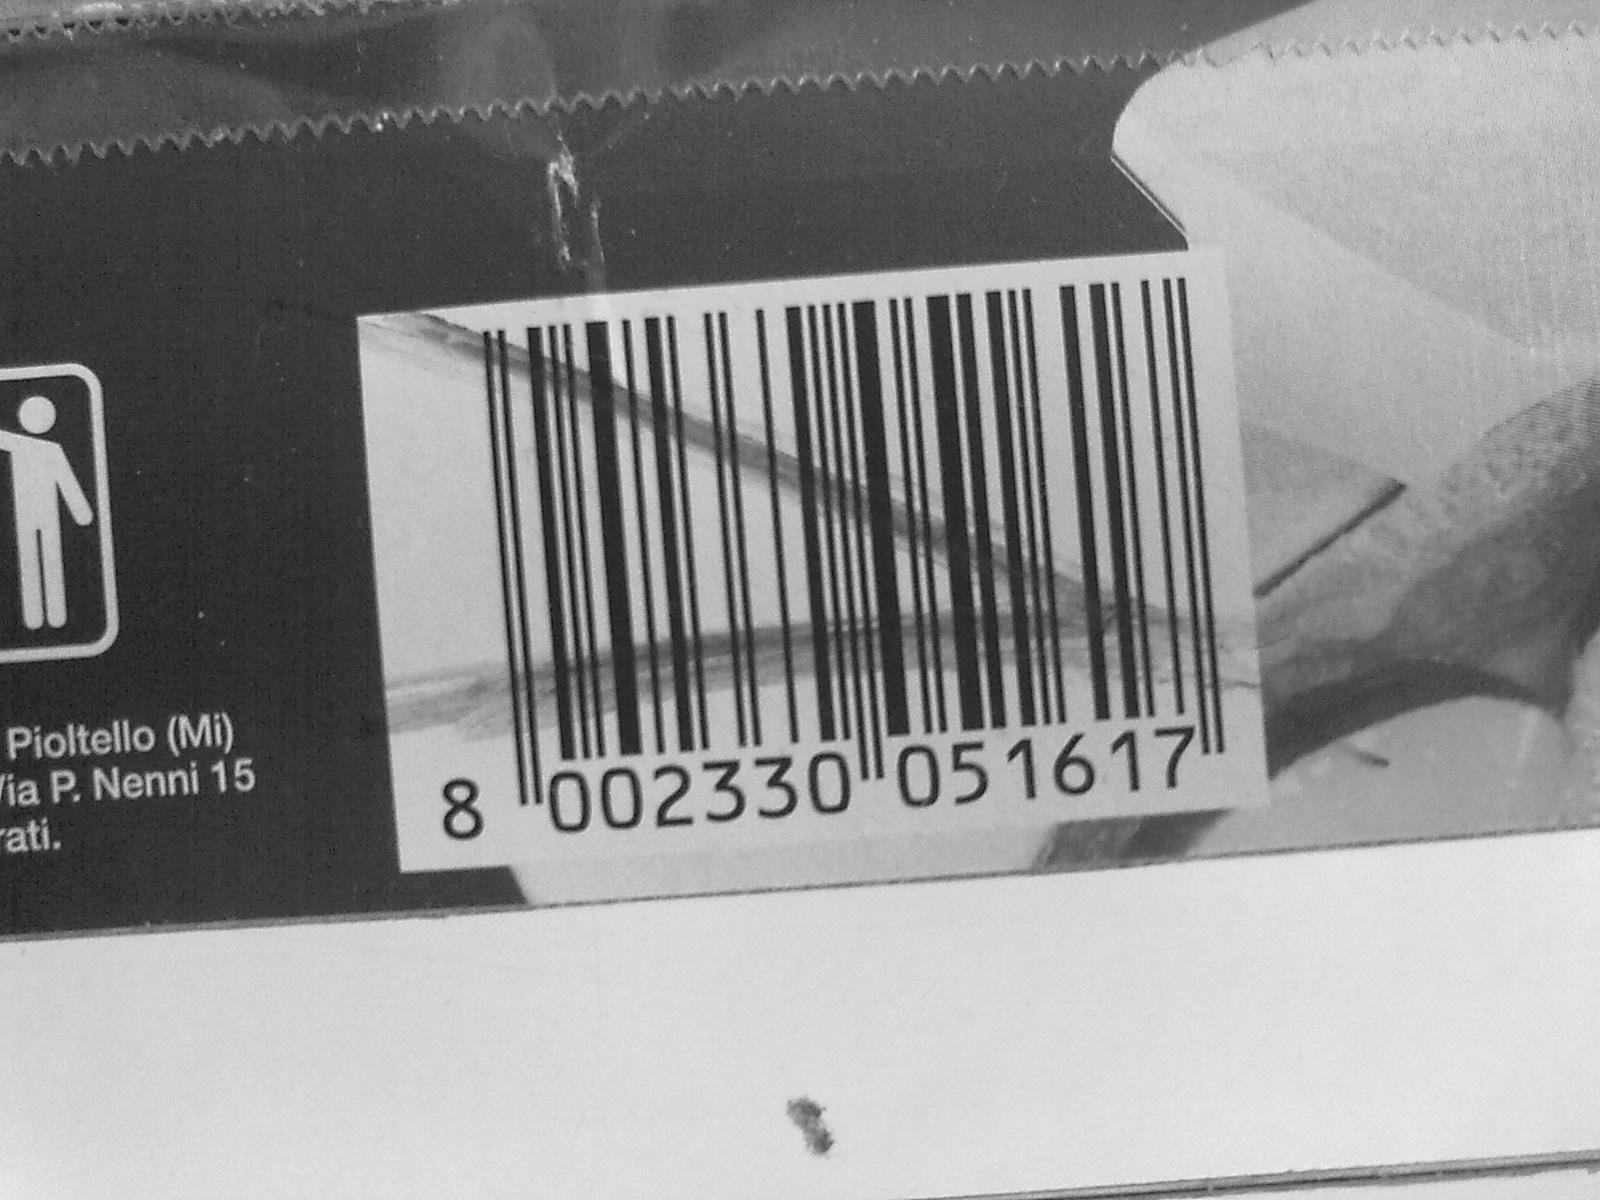Barcode: (465, 290, 1262, 807)
